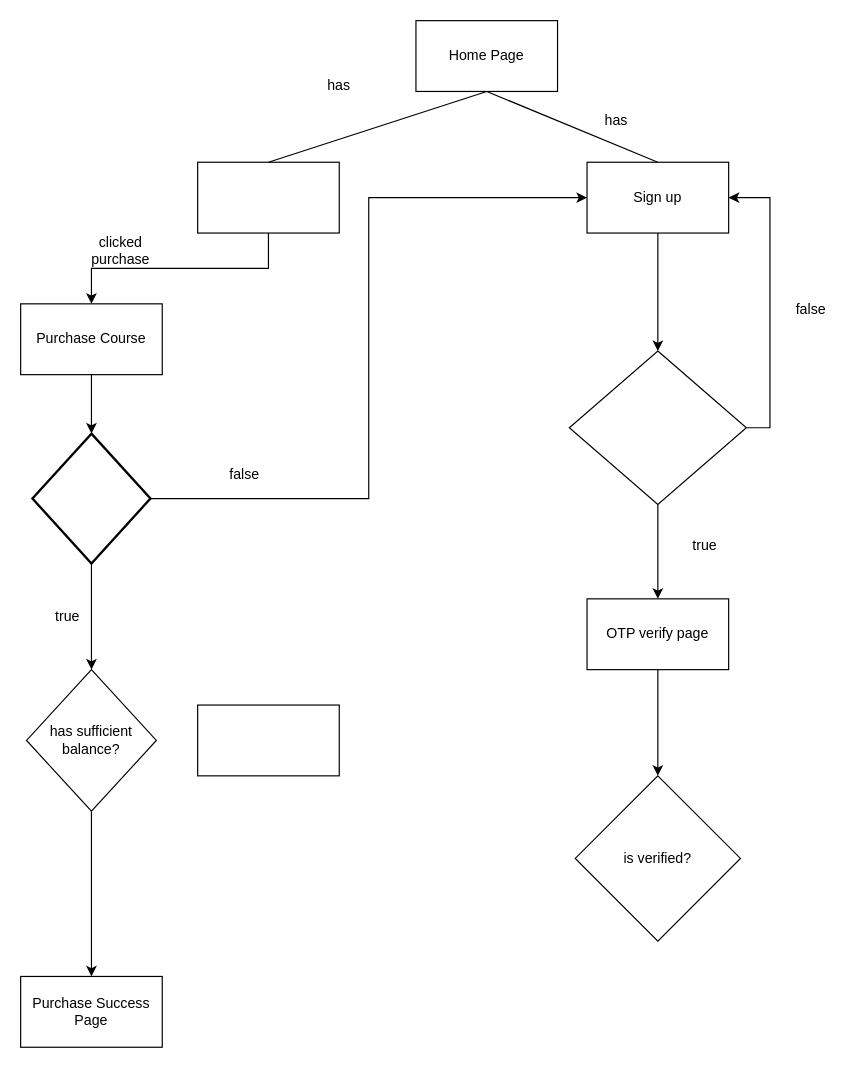
Some shapes in this 867 by 1068 pixel diagram are drawn without their labels. Each missing label, with the centre of its shape:
Explore Courses: (x=267, y=197)
is entered infroamtion valid?: (x=657, y=427)
is logged in?: (x=91, y=498)
